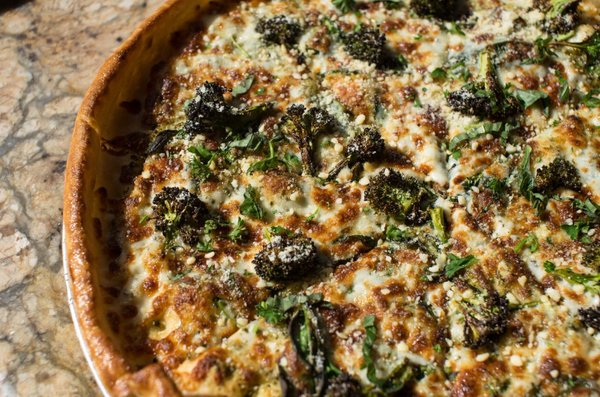curry: (365, 167, 441, 222)
